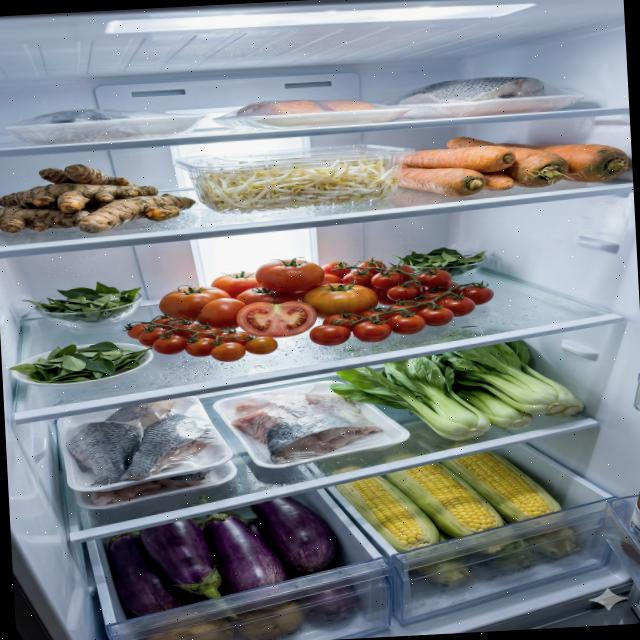bean_sprouts: (191, 155, 405, 216)
carrot: (396, 128, 632, 200)
corn: (333, 447, 565, 557)
curry_leaves: (7, 338, 156, 386), (20, 280, 144, 328), (390, 245, 488, 280)
eggplant: (106, 494, 341, 618)
fish: (64, 398, 210, 488), (228, 388, 384, 466), (396, 74, 546, 105), (237, 94, 376, 117)
pakchoy: (327, 337, 586, 447)
tomato: (119, 246, 498, 368)
turmeric: (0, 157, 198, 238)
